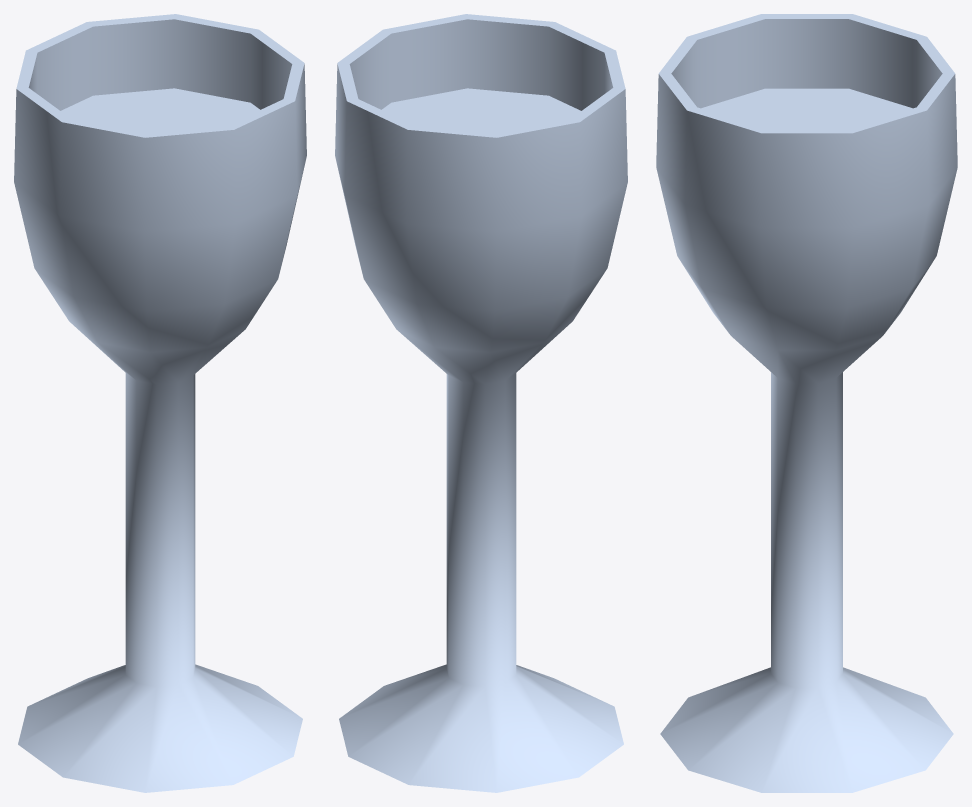
Rendered from glass (Bee game).fbx.
3 renders of one model, left to right at view 1: azimuth 30°, elevation 25°; view 2: azimuth 150°, elevation 25°; view 3: azimuth 270°, elevation 25°, orthographic.
Parts seen in each view (by area): view 1: Cube.002; view 2: Cube.002; view 3: Cube.002.
Part boxes in pixels (bbox=[...]): Cube.002: bbox=[14, 14, 306, 792]; Cube.002: bbox=[335, 14, 627, 792]; Cube.002: bbox=[656, 14, 957, 792].
Size of the model in its own units: 659 by 1675 by 693.
